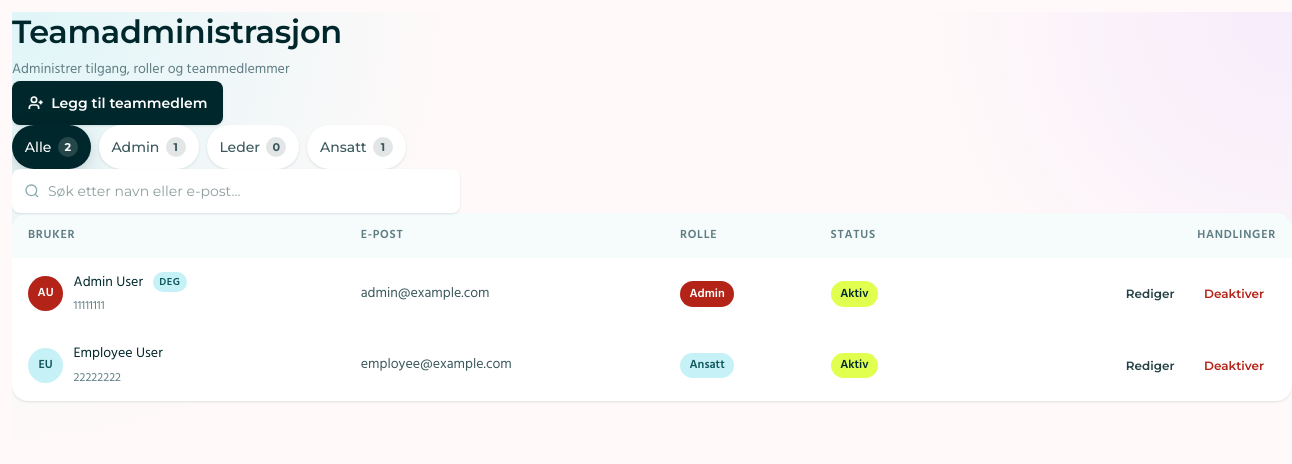
Test: UsersView › prevents self deactivation and shows feedback immediately
Expected: the row that starts with "Admin User" is shown, [12,258,1291,330]
Click the button "Deaktiver" in the row of "AU".
click(1234, 294)  # box [1192,277,1276,311]
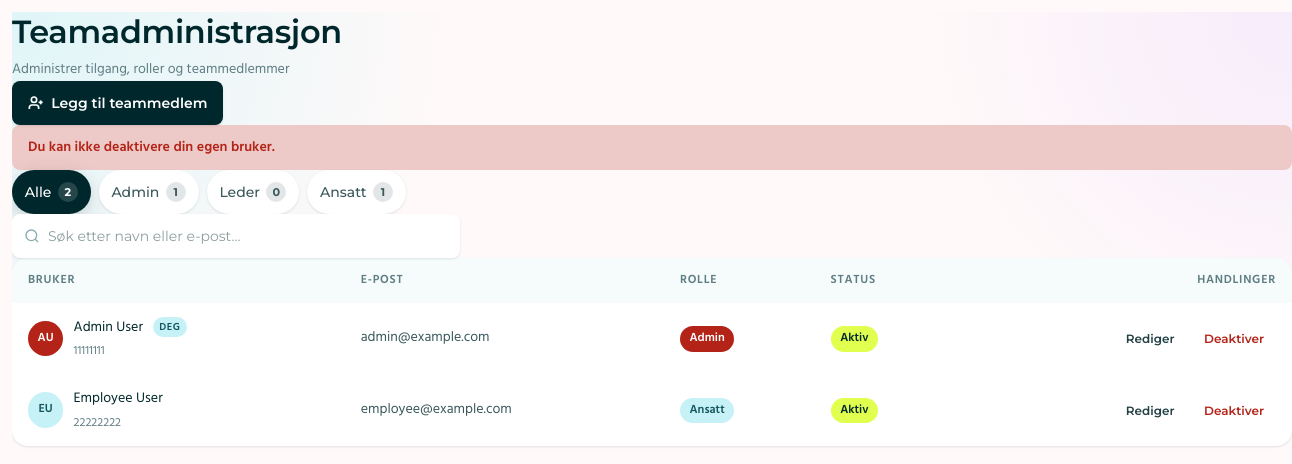
Expected: the message with class "feedback--error" reads "Du kan ikke deaktivere din egen bruker.", [28,136,275,159]
